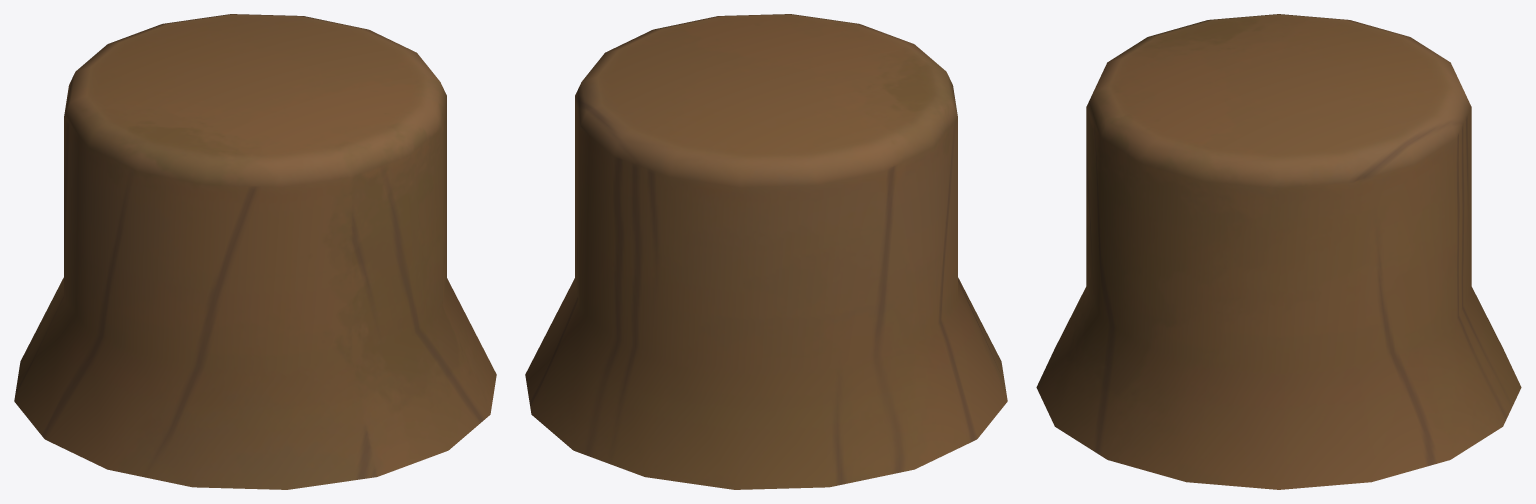
Rendered from Log Chair 01.fbx.
3 renders of one model, left to right at view 1: azimuth 30°, elevation 25°; view 2: azimuth 150°, elevation 25°; view 3: azimuth 270°, elevation 25°, orthographic.
Visible parts, largest first — view 1: Cylinder.046; view 2: Cylinder.046; view 3: Cylinder.046.
Boxes of the visible parts, x1=… form: Cylinder.046: x1=14, y1=14, x2=496, y2=489; Cylinder.046: x1=525, y1=14, x2=1007, y2=489; Cylinder.046: x1=1036, y1=14, x2=1521, y2=489.
Bounding box in the file's own units: 87.27 × 59.72 × 87.27.
1 material, 1 textured.
